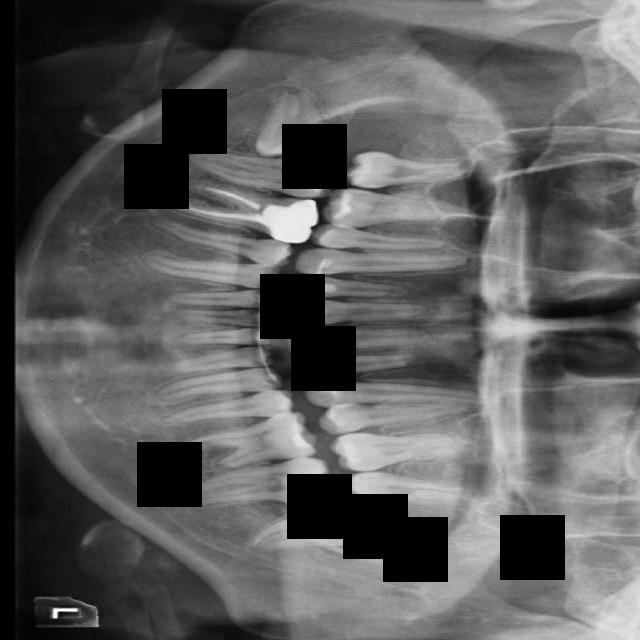52: (247, 196, 318, 244)
73: (166, 170, 272, 234), (68, 568, 84, 577)
BioHorizons Implant: (344, 472, 465, 512)
Biomet 3i Implant: (242, 496, 359, 555)
Blue Sky Bio Implant: (187, 457, 329, 507)
Caries: (349, 147, 474, 191)
Implant: (193, 145, 336, 201)
Keystone Dental Implant: (248, 85, 339, 160)
